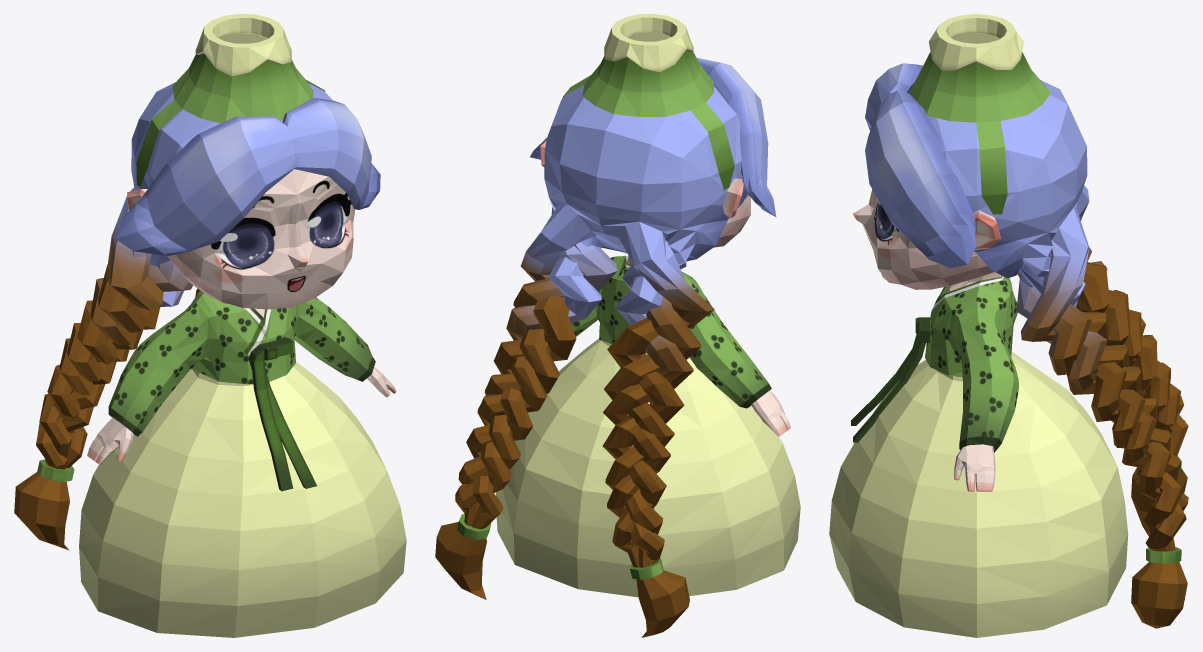
Rendered from Seolmundae Halmang_SNShot.FBX.
3 renders of one model, left to right at view 1: azimuth 30°, elevation 25°; view 2: azimuth 150°, elevation 25°; view 3: azimuth 270°, elevation 25°, orthographic. The views are drawn at different scales.
Visible parts, largest first — view 1: Cloth001, body001; view 2: body001, Cloth001; view 3: body001, Cloth001.
Part boxes in pixels (x1=…): Cloth001: x1=79, y1=291, x2=406, y2=637; body001: x1=14, y1=14, x2=396, y2=550; body001: x1=435, y1=14, x2=790, y2=637; Cloth001: x1=496, y1=256, x2=800, y2=597; body001: x1=853, y1=14, x2=1188, y2=628; Cloth001: x1=829, y1=275, x2=1128, y2=637.
Bounding box in the file's own units: 151 × 159 × 273.
